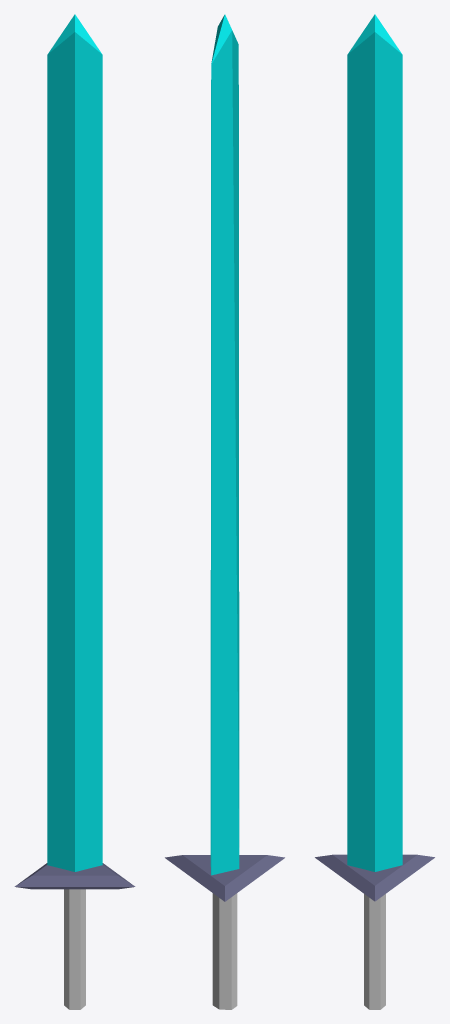
The model's file is Sci-fi Blade.fbx.
3 renders of one model, left to right at view 1: azimuth 90°, elevation 25°; view 2: azimuth 150°, elevation 25°; view 3: azimuth 270°, elevation 25°, orthographic.
Parts seen in each view (by area): view 1: Blade, Sword, Guard; view 2: Blade, Sword, Guard; view 3: Blade, Sword, Guard.
Part boxes in pixels (x1,y1,x2,y2): Blade: (47,14,102,871); Sword: (64,889,85,1009); Guard: (14,863,135,889); Blade: (210,14,239,875); Sword: (212,893,237,1009); Guard: (165,855,284,901); Blade: (347,14,402,871); Sword: (364,894,385,1009); Guard: (315,854,434,901).
Size of the model in its own units: 9.52 by 10.99 by 99.
